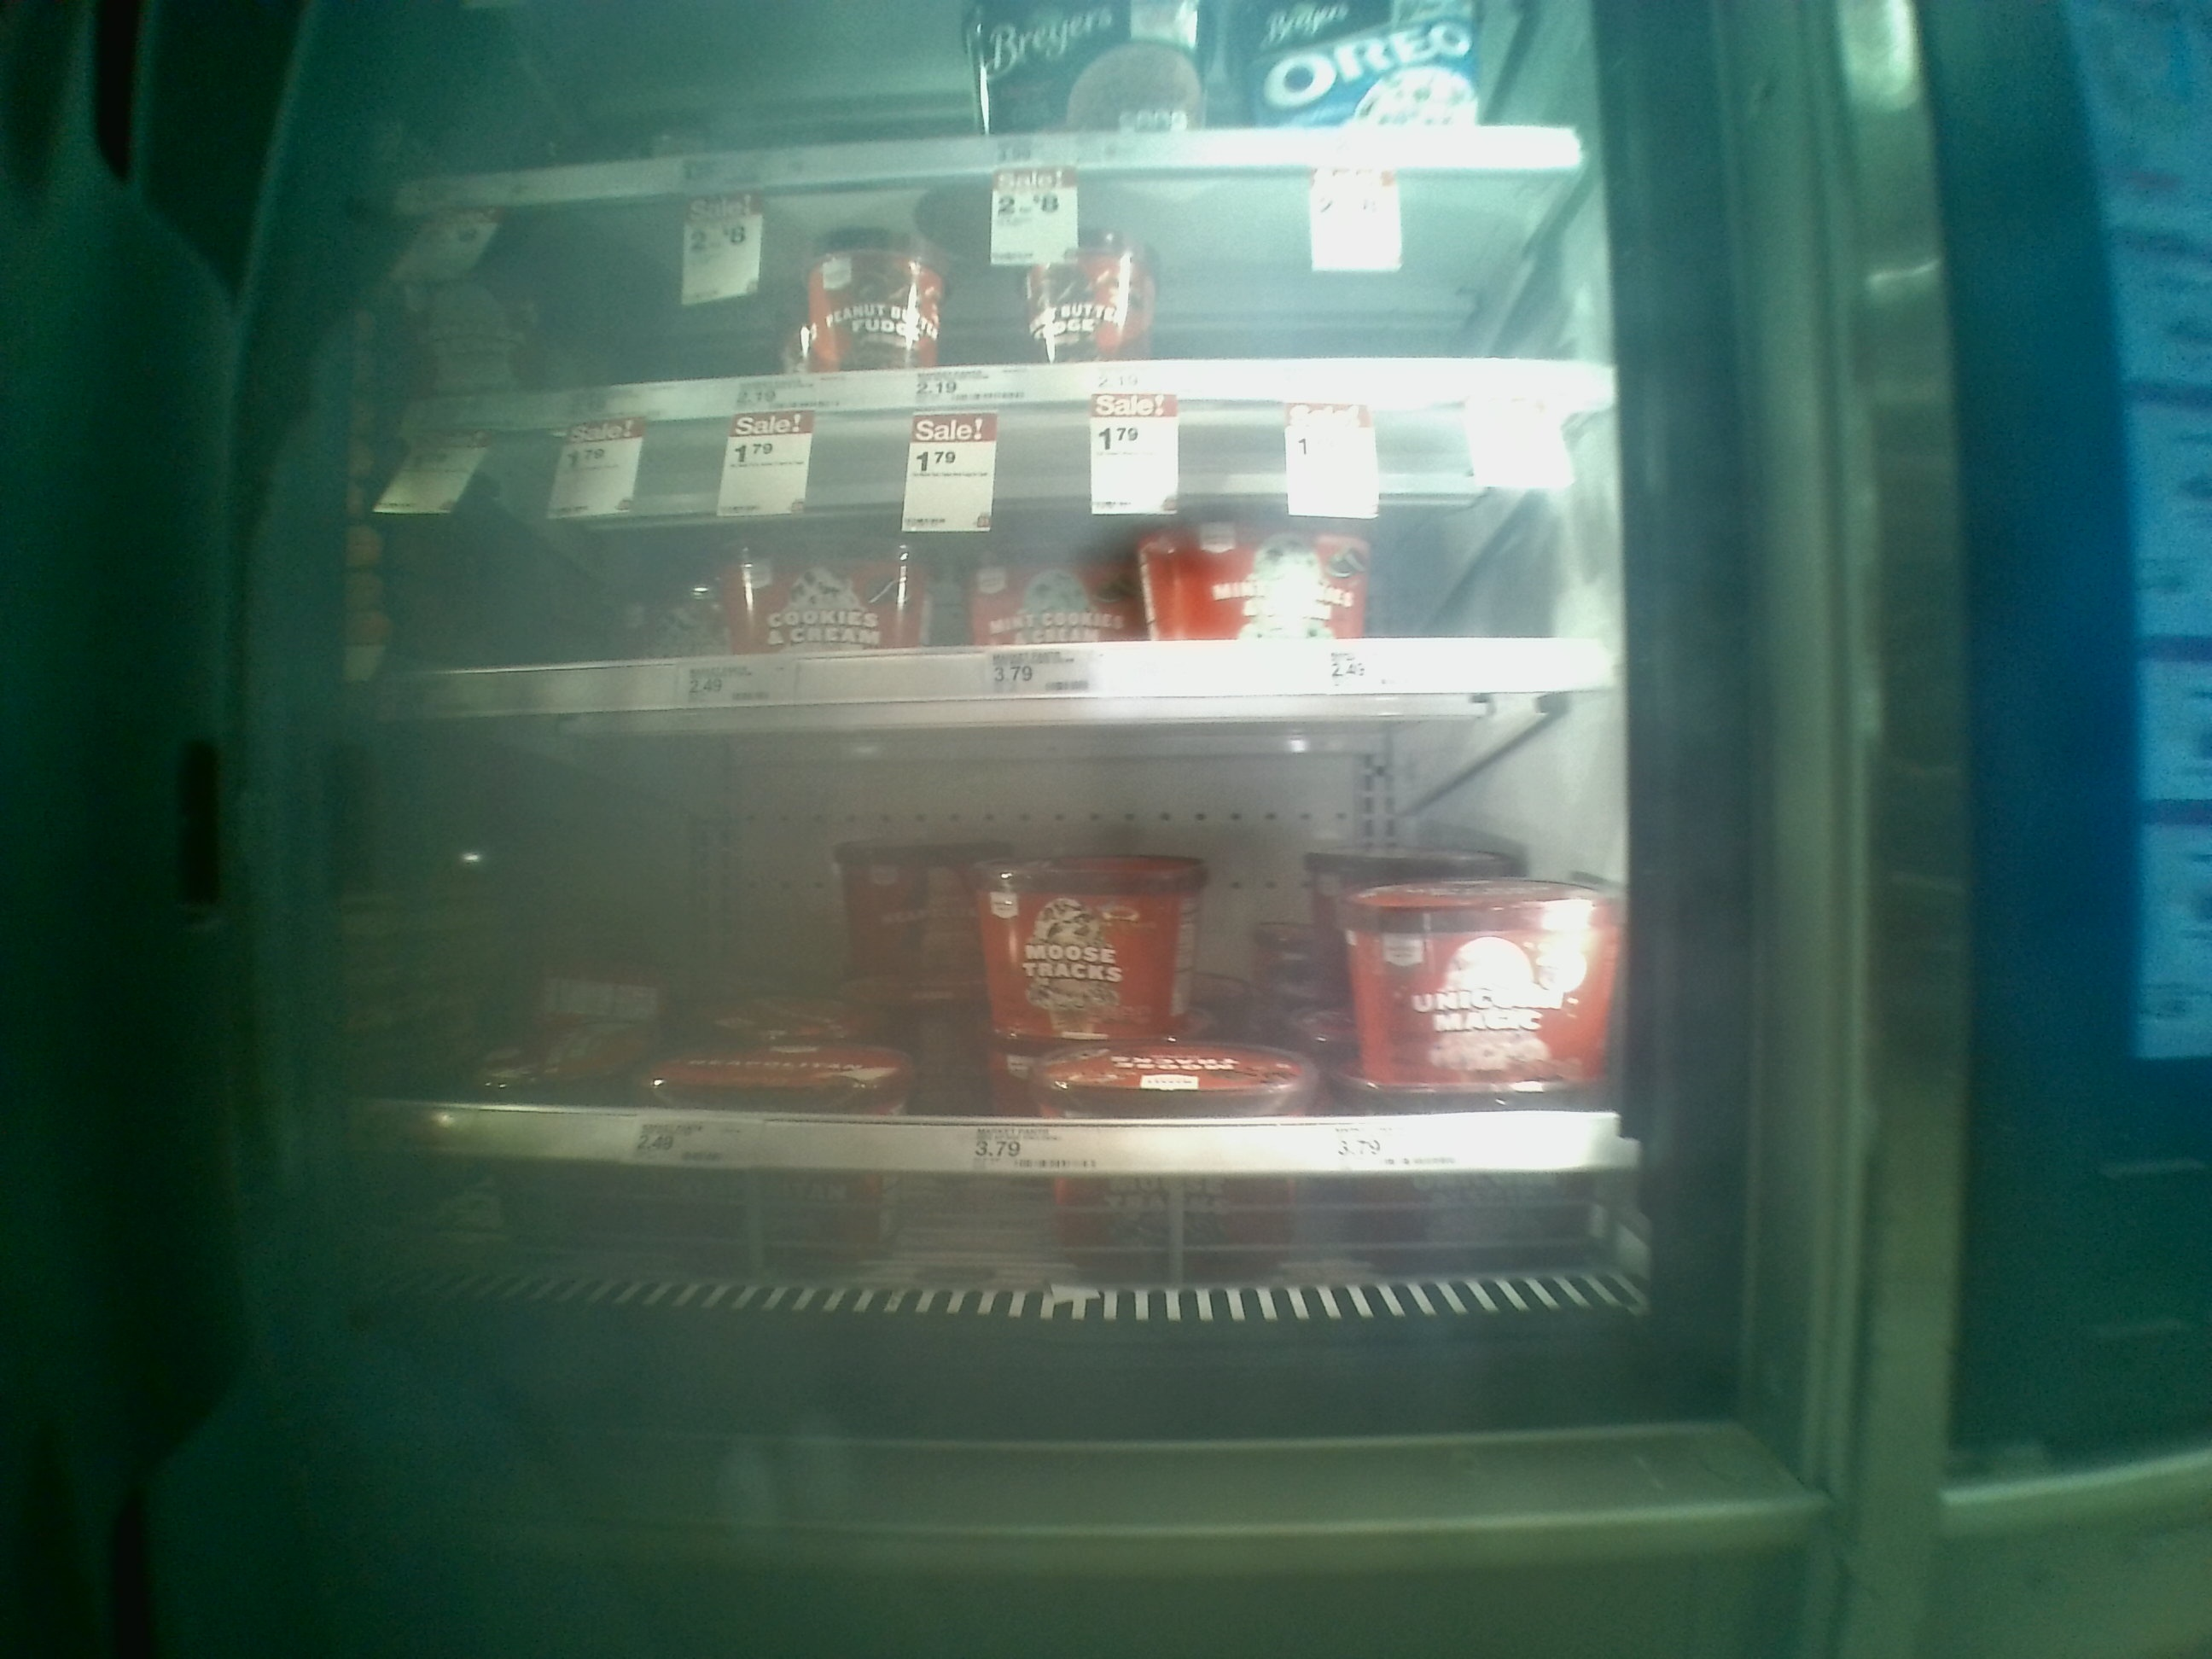shelf: (392, 688, 1634, 1220), (394, 397, 1627, 697), (376, 159, 1609, 397)
